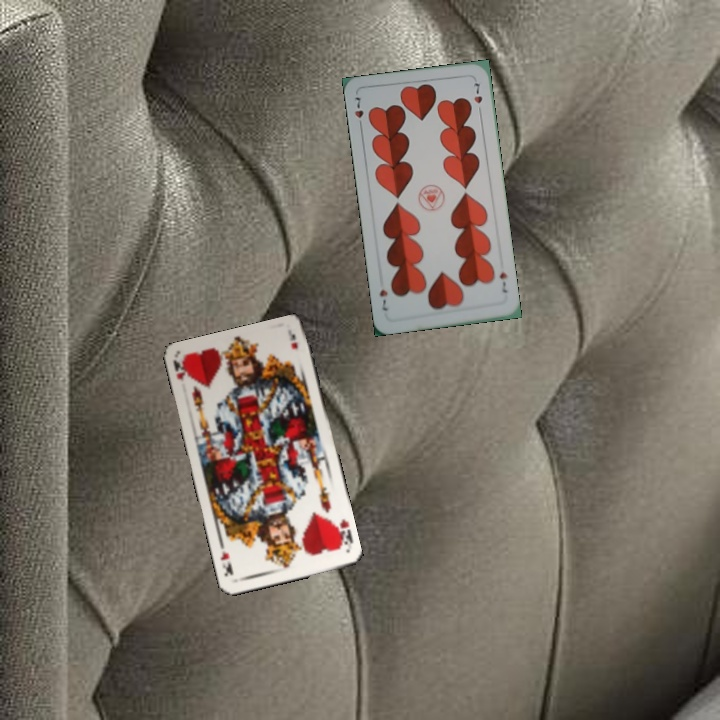H7: (350, 93, 366, 132), (495, 268, 510, 295)
HK: (330, 515, 355, 551), (169, 355, 191, 382)
